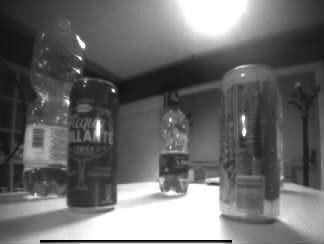Bottle: (22, 16, 77, 196), (157, 100, 189, 196)
Tin can: (216, 63, 283, 225), (65, 78, 118, 210)
